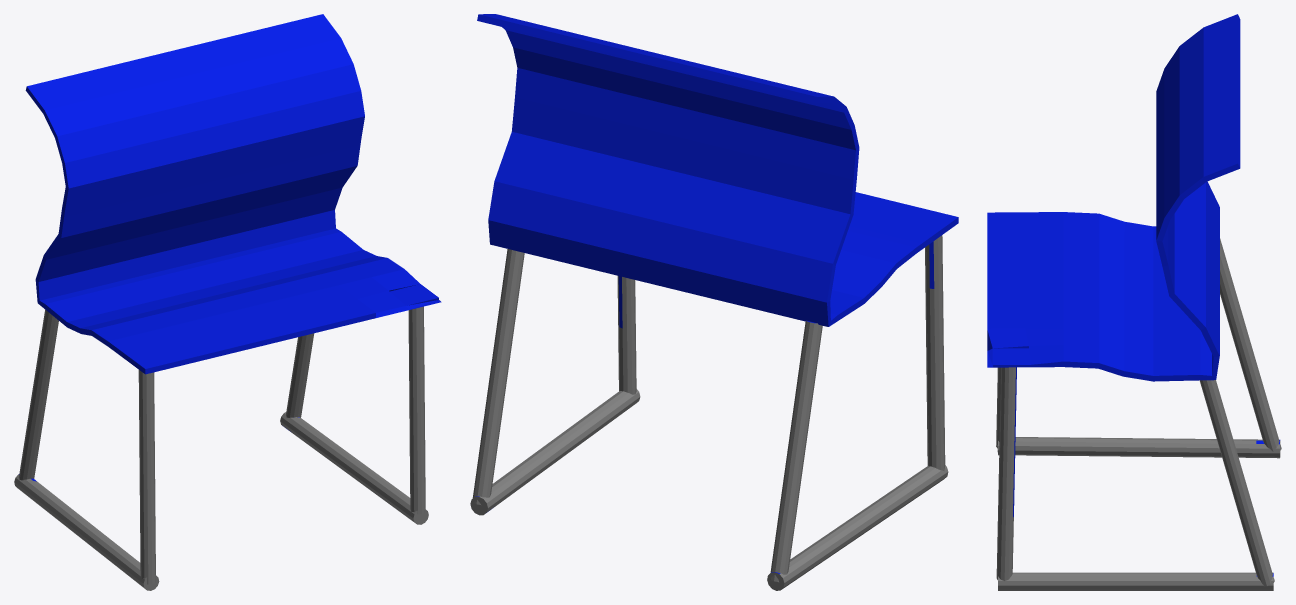
Rendered from SillaTerminada.fbx.
The picture shows the model from 3 angles, left to right: view 1: azimuth 30°, elevation 25°; view 2: azimuth 150°, elevation 25°; view 3: azimuth 270°, elevation 25°; orthographic projection. The views are drawn at different scales.
Parts seen in each view (by area): view 1: Cylinder.001; view 2: Cylinder.001; view 3: Cylinder.001.
Boxes of the visible parts, bbox=[...] form: Cylinder.001: bbox=[14, 14, 441, 590]; Cylinder.001: bbox=[470, 14, 958, 590]; Cylinder.001: bbox=[987, 14, 1281, 590].
Size of the model in its own units: 293 by 391 by 239.
